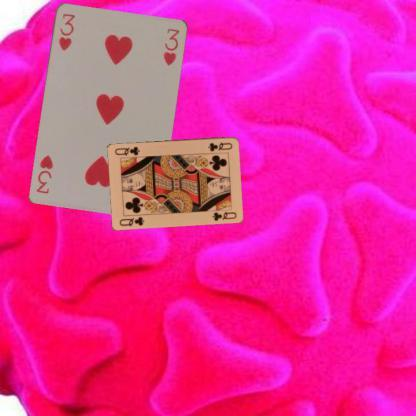3h: (56, 10, 76, 52)
Qc: (116, 213, 146, 228), (206, 140, 234, 152)
